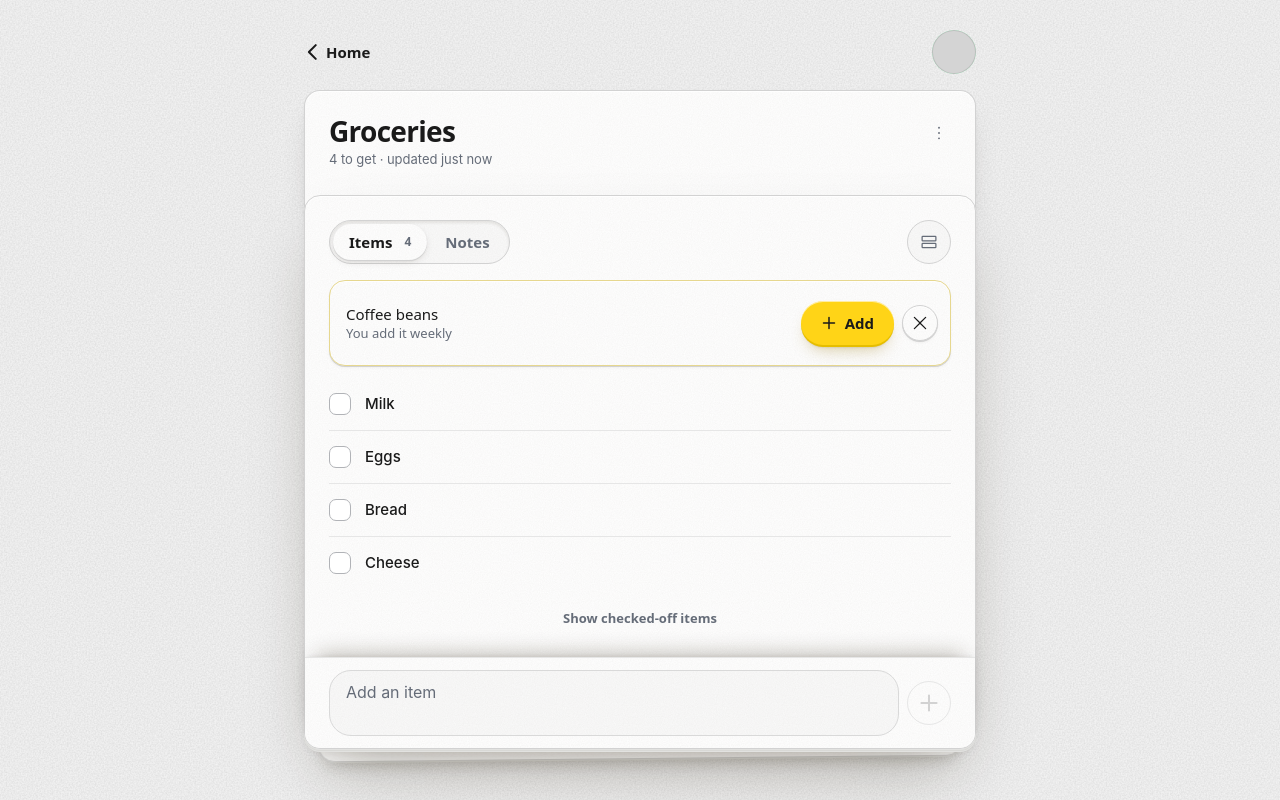
ListPage Up next › waits for a first check-off when the House is not shopping yet
Expected: the element named "Suggestion" is shown, [329,280,951,366]
Expected: the element "Up next" is not shown
Click the checkbox named "Check off Milk".
click(340, 404)  # box [329,393,351,415]
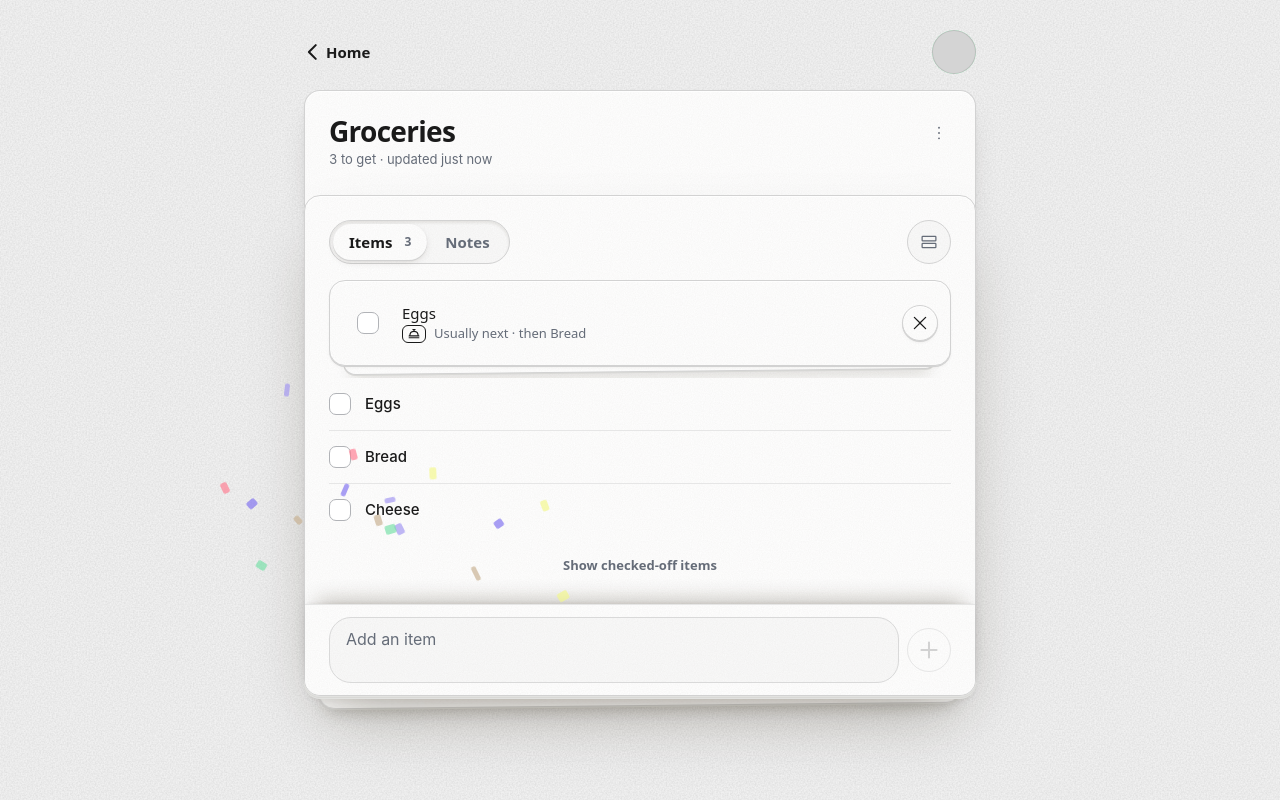
Result: the 1st text "Eggs" is shown at [402,303,436,323]
Result: the text "Usually next · then Bread" is shown at [402,324,586,343]
